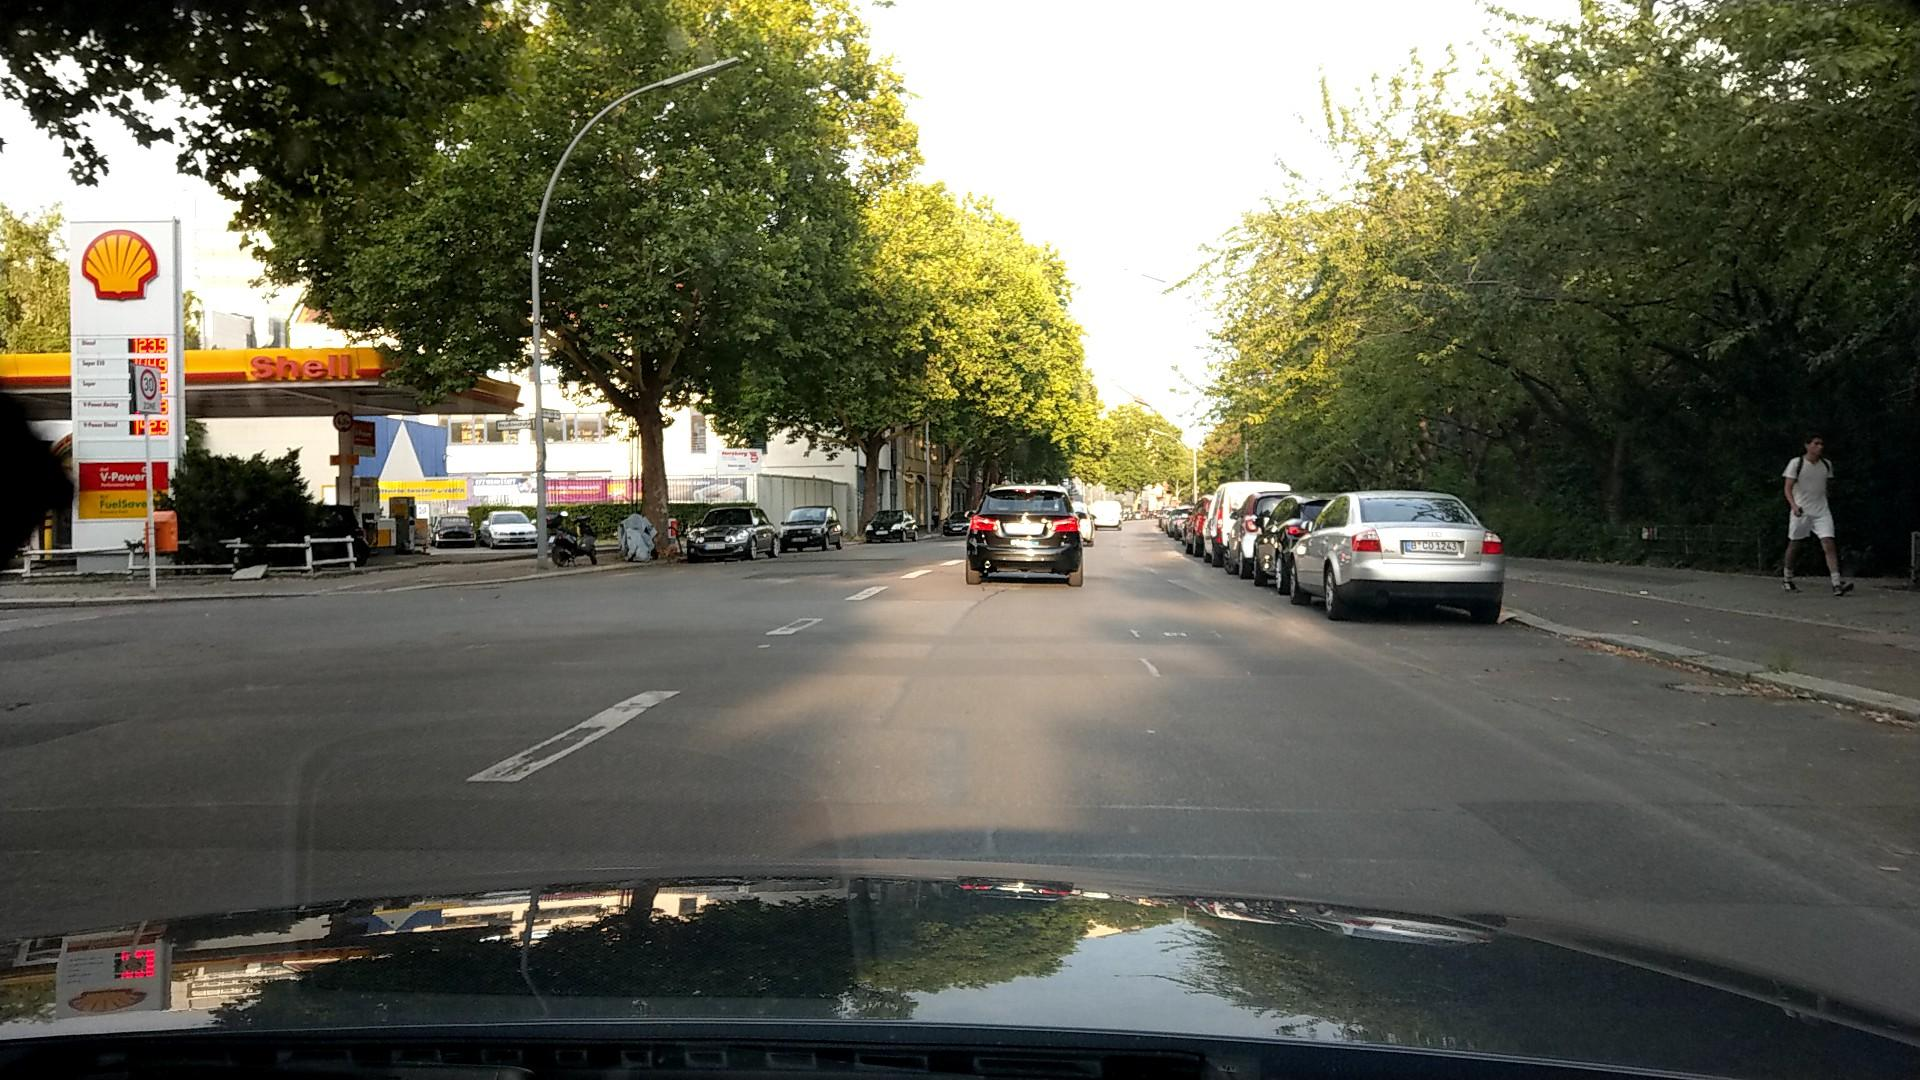Human face: (1804, 431, 1826, 457)
Vehicle registration plate: (1404, 539, 1458, 554), (1003, 523, 1046, 535), (703, 543, 725, 549), (791, 537, 807, 542)
